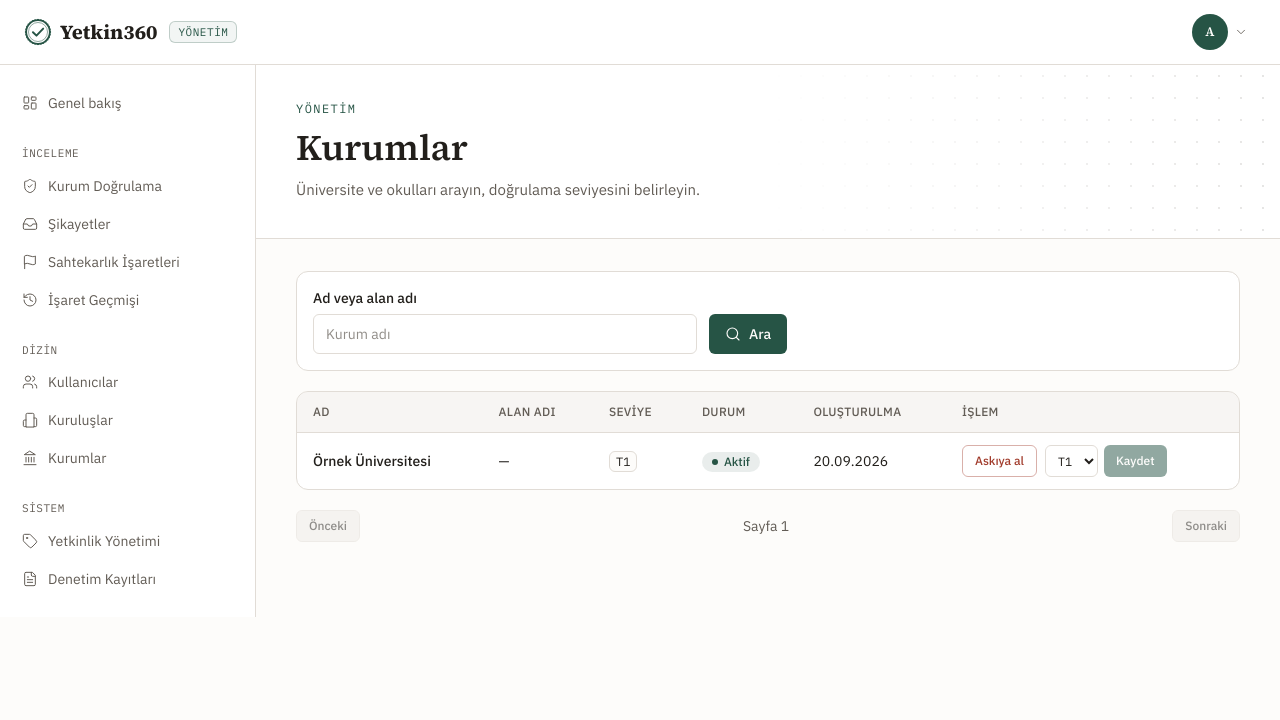
Scenario: KurumlarPage (/admin/kurumlar) › saves a new verification level
Expected: the button "Kaydet" is disabled, [1104,445,1166,477]
Select "T3" in the dropdown: (1072,461) [1045,445,1098,477]
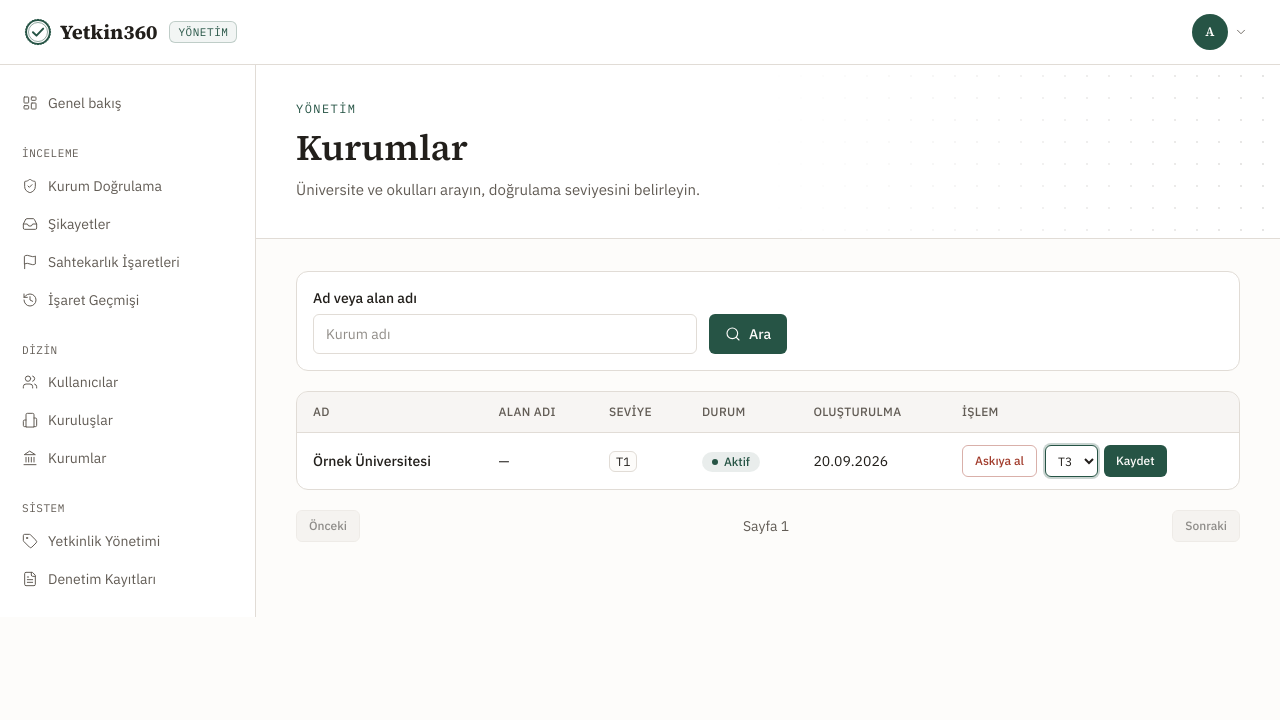
Click the button "Kaydet": (1135,461) [1104,445,1166,477]
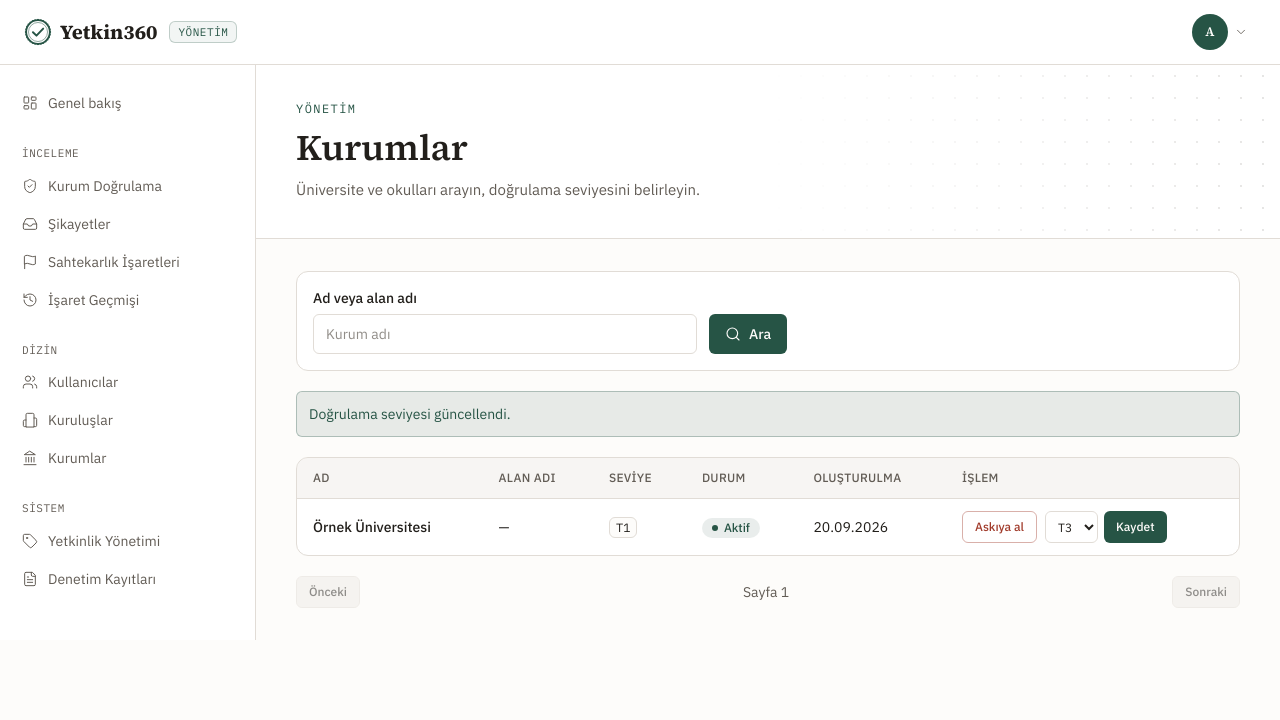
Result: the text "Doğrulama seviyesi güncellendi." is shown at [296,391,1240,437]
